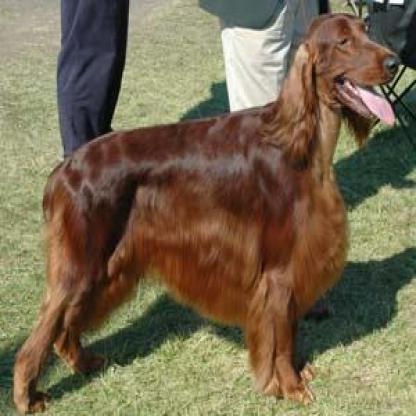Irish_setter: (6, 11, 402, 413)
